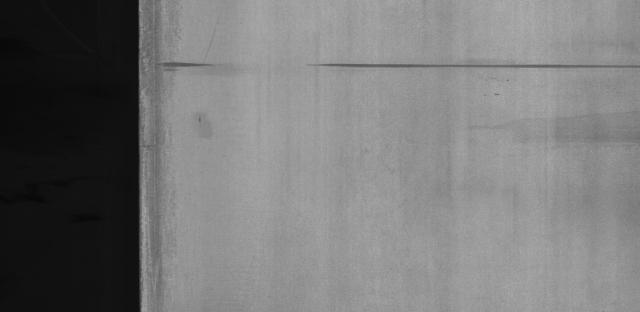crease: (306, 56, 639, 78), (149, 55, 222, 76)
